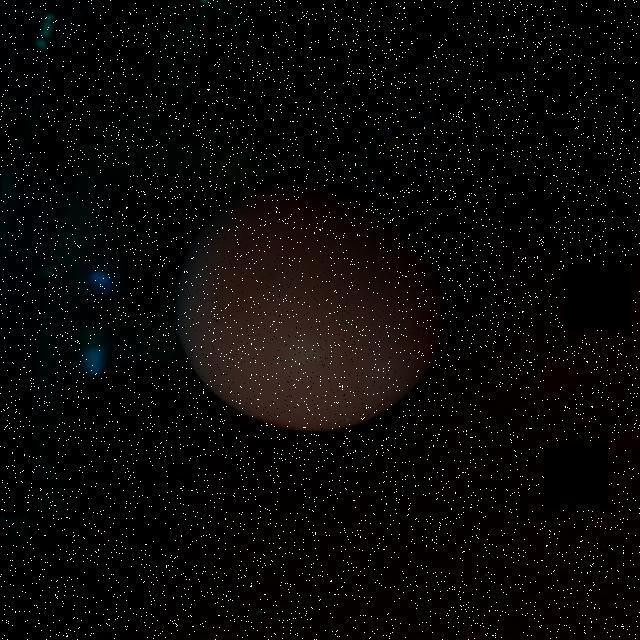egg: (162, 172, 452, 436)
